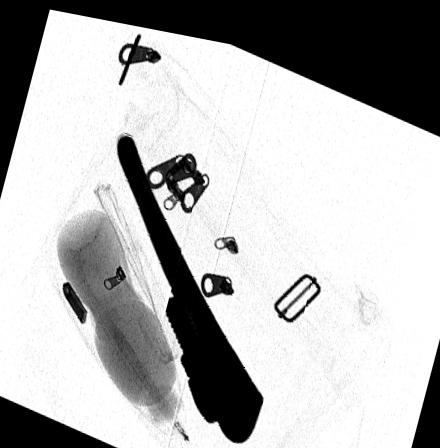Wrench: (114, 123, 262, 438)
